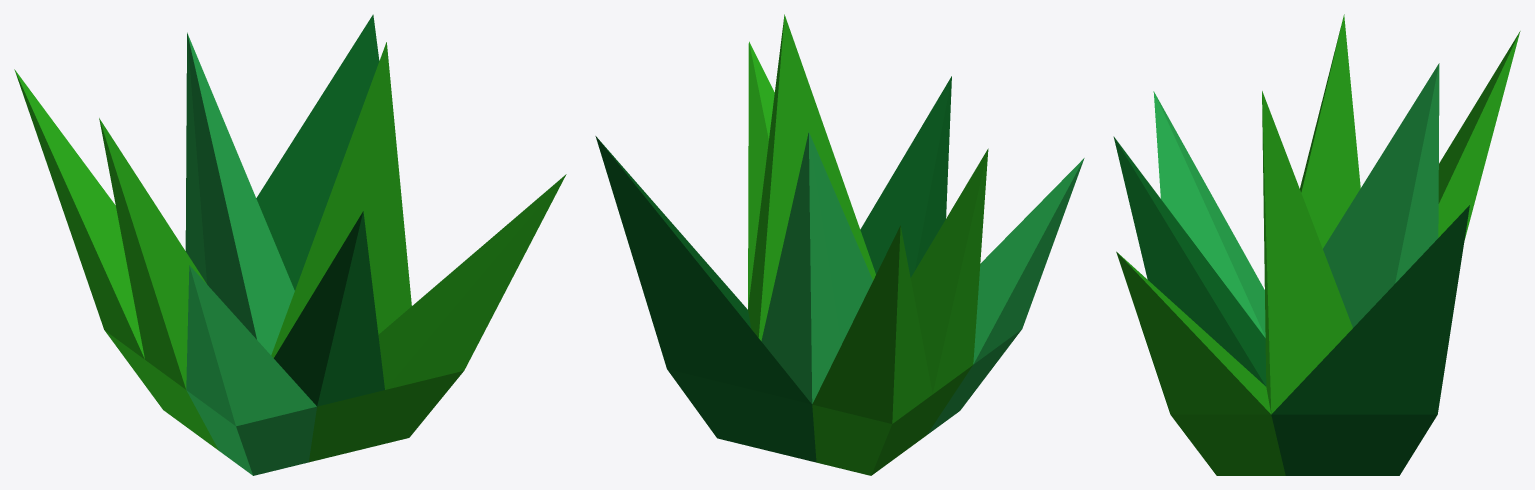
File: GrassFromGalapagos.obj
The picture shows the model from 3 angles, left to right: view 1: azimuth 30°, elevation 25°; view 2: azimuth 150°, elevation 25°; view 3: azimuth 270°, elevation 25°; orthographic projection. The views are drawn at different scales.
Visible parts, largest first — view 1: Cube; view 2: Cube; view 3: Cube.
Boxes of the visible parts, left/top/right/bottom form: Cube: left=14, top=14, right=566, bottom=475; Cube: left=595, top=14, right=1084, bottom=475; Cube: left=1113, top=14, right=1520, bottom=475.
Bounding box in the file's own units: 2.01 × 2.04 × 1.95.
